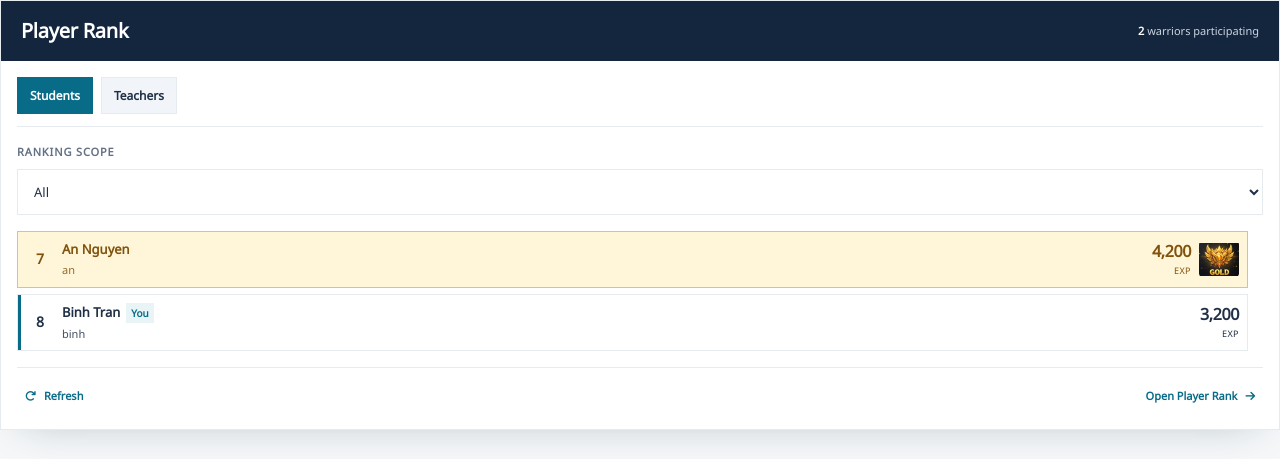
Test: Compact leaderboard › uses real course scopes and resets the course when switching to teachers
Select "Programming · CS101" in the dropdown labelled "Ranking scope" at x=640, y=192, box left=17, top=169, right=1263, bottom=215
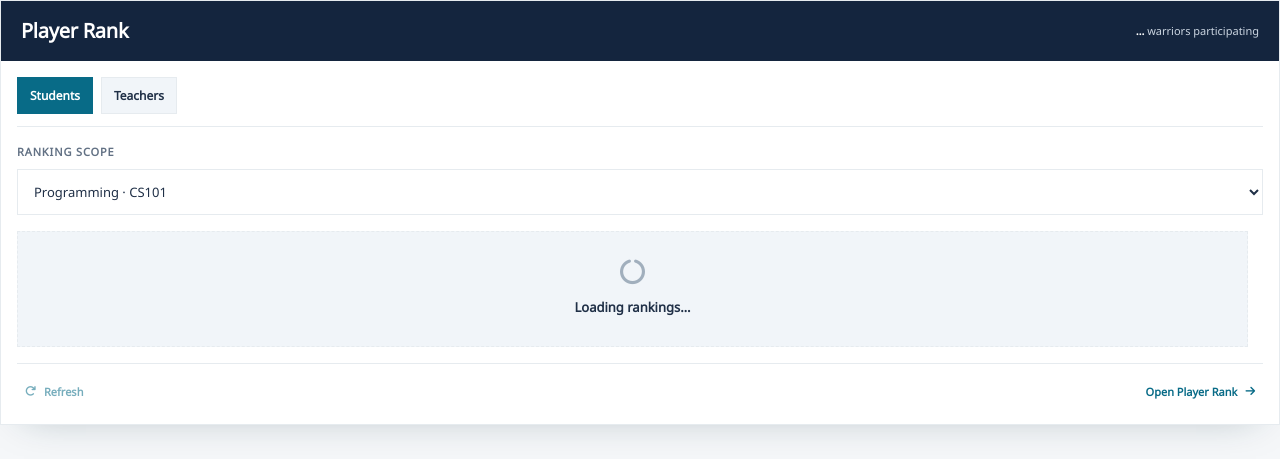
Click the button "Teachers" at x=139, y=96, box left=101, top=77, right=177, bottom=114
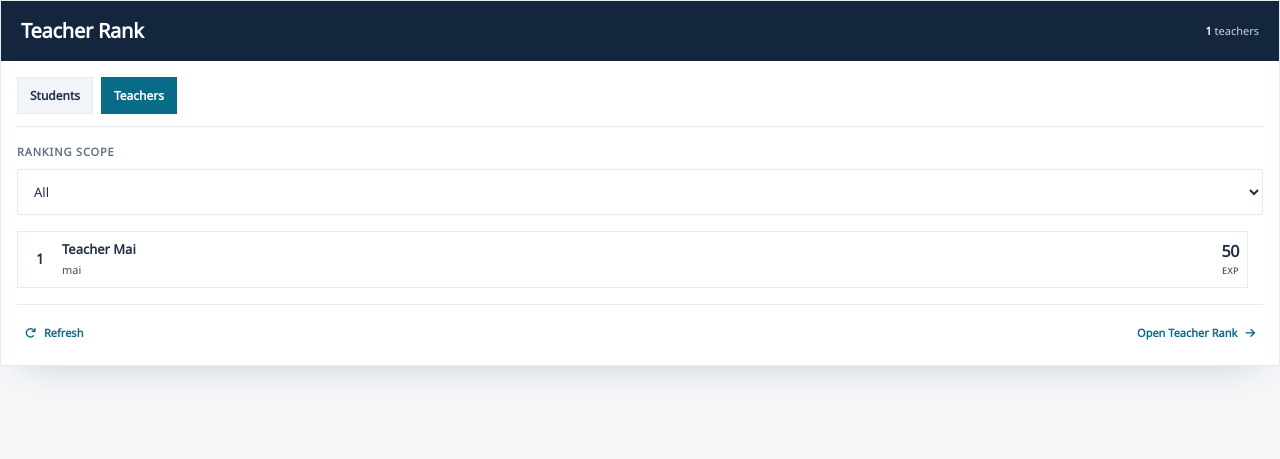
Expected: the text "Teacher Mai" is shown, left=62, top=240, right=136, bottom=259
Expected: the text "EXP" is shown, left=1222, top=264, right=1239, bottom=278
Expected: the heading "Teacher Rank" is shown, left=21, top=17, right=144, bottom=45
